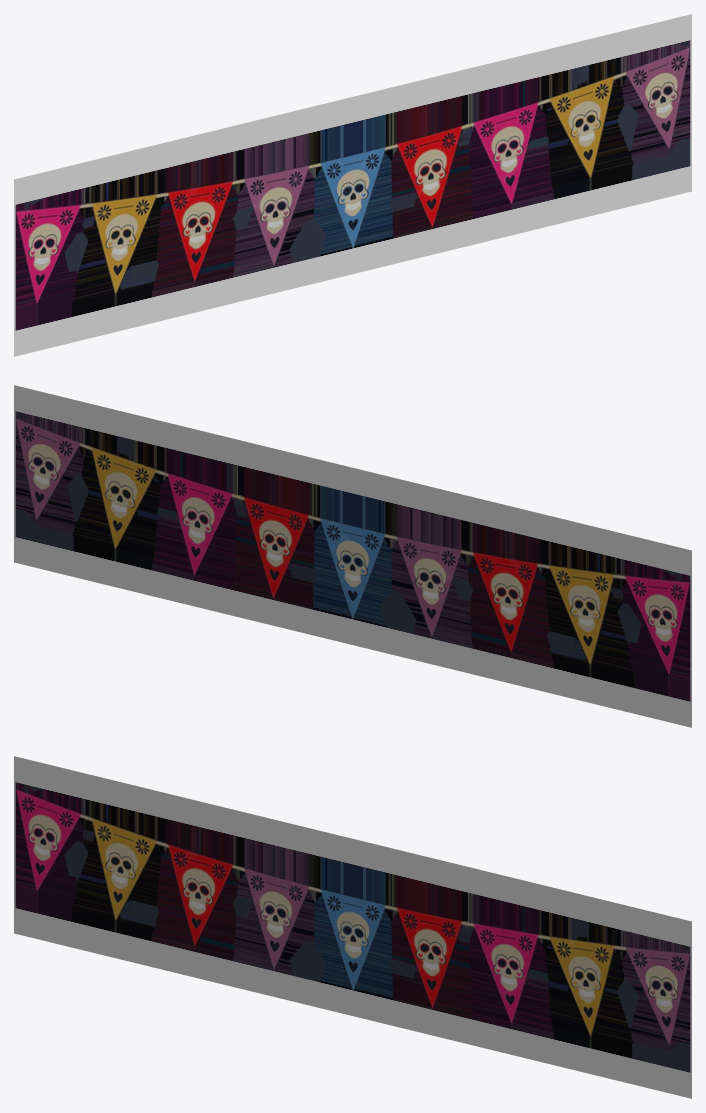
Rendered from md_flag_4.fbx.
3 views of the same model, one above another, from view 1: azimuth 30°, elevation 25°; view 2: azimuth 150°, elevation 25°; view 3: azimuth 330°, elevation 25° (orthographic).
Parts seen in each view (by area): view 1: md_flag_4; view 2: md_flag_4; view 3: md_flag_4.
Part boxes in pixels (x1,y1,x2,y2): md_flag_4: (14, 14, 691, 356); md_flag_4: (14, 385, 691, 727); md_flag_4: (14, 756, 691, 1098).
Bounding box in the file's own units: 1 × 0.25 × 1.68e-08.
1 material, 1 textured.
